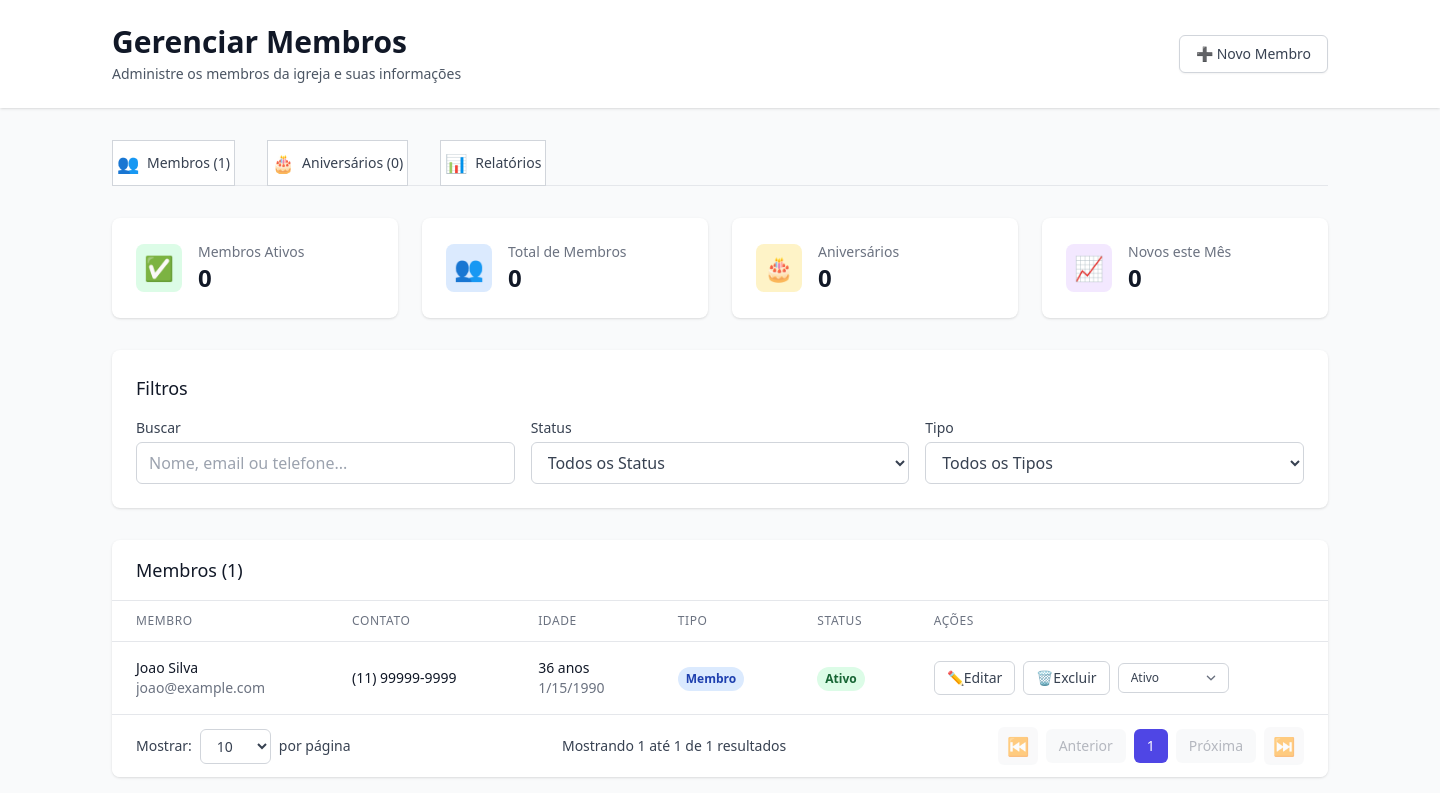
Test: MembersManagementPage › Tab Navigation › should switch to reports tab
This screenshot has width=1440, height=793.
Expected: the text "Joao Silva" is shown, [136,658,198,677]
Note: Click reports tab
What coordinates should you click on to do the following:
click the button "📊 Relatórios"
I would click on:
 (493, 163)
Its box is [440,140,546,186].
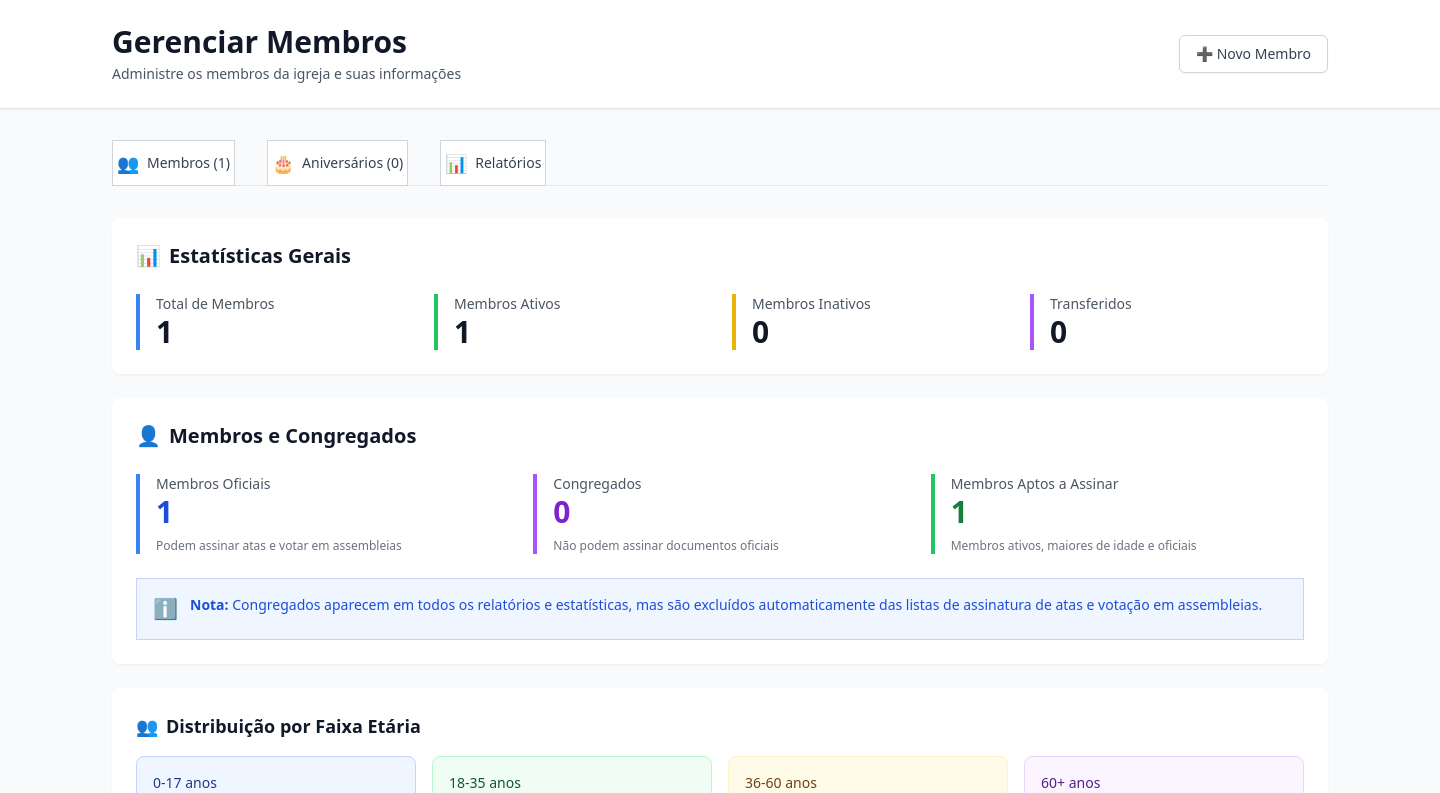
Expected: the heading "📊 Estatísticas Gerais" is shown, [136,242,351,269]
